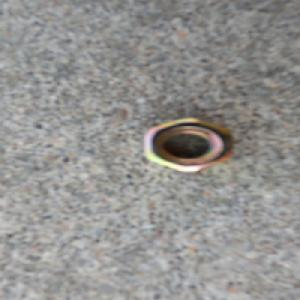Nut: (140, 116, 236, 174)
